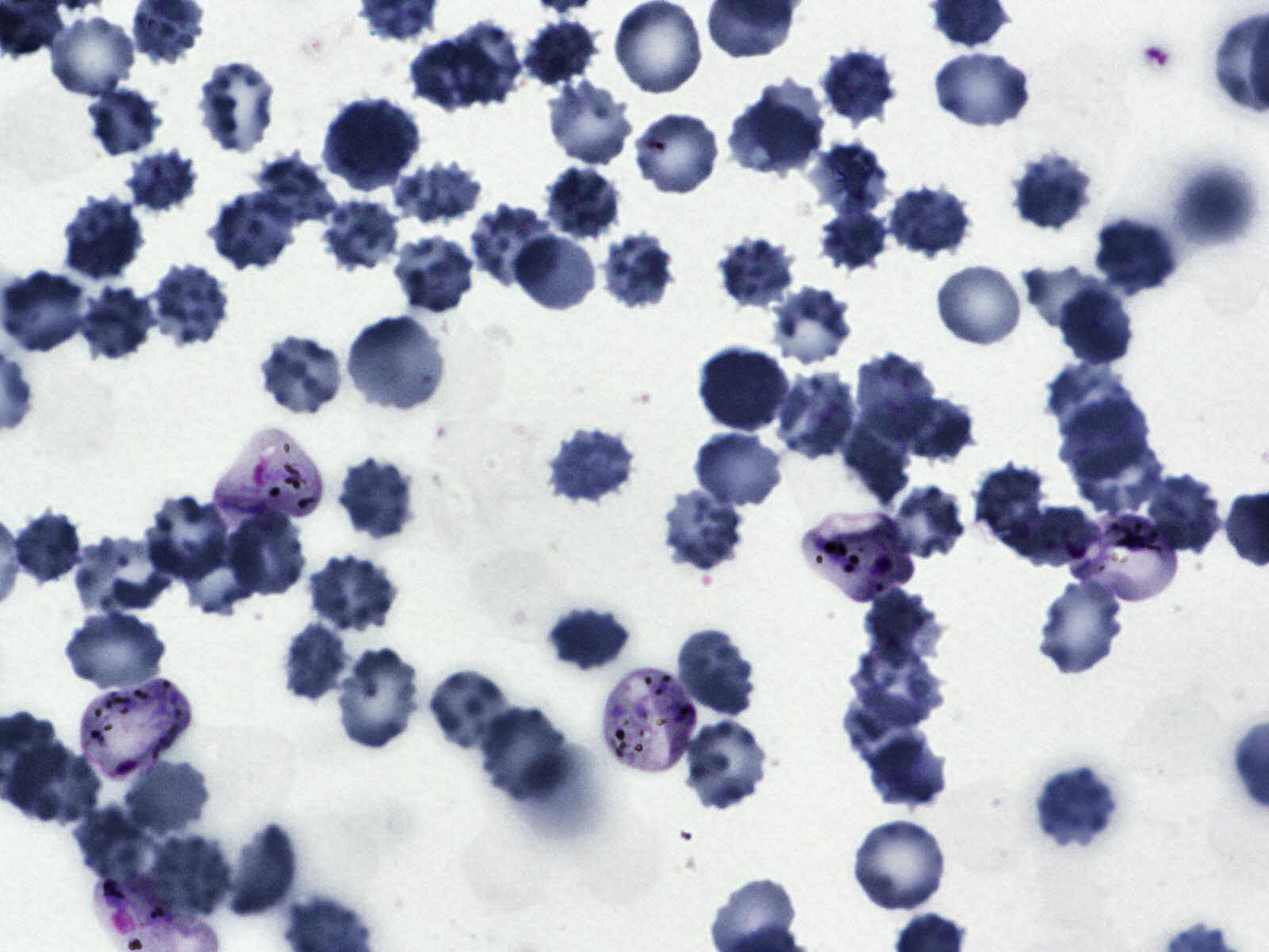Infected: (76, 680, 192, 777), (803, 507, 912, 608), (601, 666, 697, 770), (212, 429, 320, 521), (1064, 519, 1177, 599)
Uninfected: (972, 464, 1096, 565), (343, 315, 441, 409), (611, 0, 704, 97), (324, 98, 420, 188), (481, 708, 571, 802), (7, 742, 102, 829), (853, 821, 945, 910), (63, 608, 164, 689), (70, 535, 171, 616), (1057, 397, 1150, 480), (339, 648, 416, 748), (848, 648, 945, 727), (698, 347, 788, 432), (1040, 581, 1121, 674), (304, 555, 399, 634), (673, 628, 757, 717), (854, 351, 937, 441), (144, 496, 229, 582), (548, 79, 633, 164), (469, 205, 558, 286), (1077, 435, 1165, 516), (148, 263, 231, 348), (146, 833, 232, 915), (845, 689, 925, 777), (45, 18, 134, 97), (177, 533, 261, 616), (1033, 767, 1118, 849), (660, 489, 746, 570), (547, 427, 637, 504), (335, 456, 416, 541), (687, 720, 765, 808), (935, 54, 1029, 127), (209, 194, 298, 271), (62, 198, 145, 280), (1049, 363, 1136, 441), (694, 428, 780, 505), (940, 267, 1022, 347), (779, 373, 856, 458), (1011, 153, 1093, 232), (429, 670, 513, 747), (859, 588, 944, 664), (884, 184, 970, 259), (228, 512, 304, 596), (200, 63, 271, 152), (1028, 263, 1114, 336), (728, 103, 815, 175), (635, 115, 718, 190), (750, 80, 825, 163), (124, 762, 209, 835), (411, 39, 499, 109), (543, 165, 624, 241), (392, 159, 483, 226), (819, 47, 897, 125), (1175, 168, 1253, 246), (719, 231, 797, 309), (512, 237, 594, 311), (251, 152, 333, 226), (862, 735, 945, 808), (232, 823, 297, 914), (5, 273, 80, 351), (451, 20, 519, 106), (12, 510, 86, 589), (775, 287, 849, 366), (522, 17, 602, 90), (1095, 219, 1175, 292), (395, 233, 470, 310), (263, 336, 338, 413), (77, 288, 153, 363), (76, 806, 151, 881), (1056, 287, 1132, 361), (322, 197, 397, 270), (602, 231, 672, 309), (1148, 474, 1218, 551), (891, 485, 964, 557), (88, 86, 161, 156), (283, 623, 350, 699), (814, 144, 884, 215), (902, 399, 980, 461), (815, 206, 889, 271), (548, 609, 627, 669), (125, 151, 198, 214)
